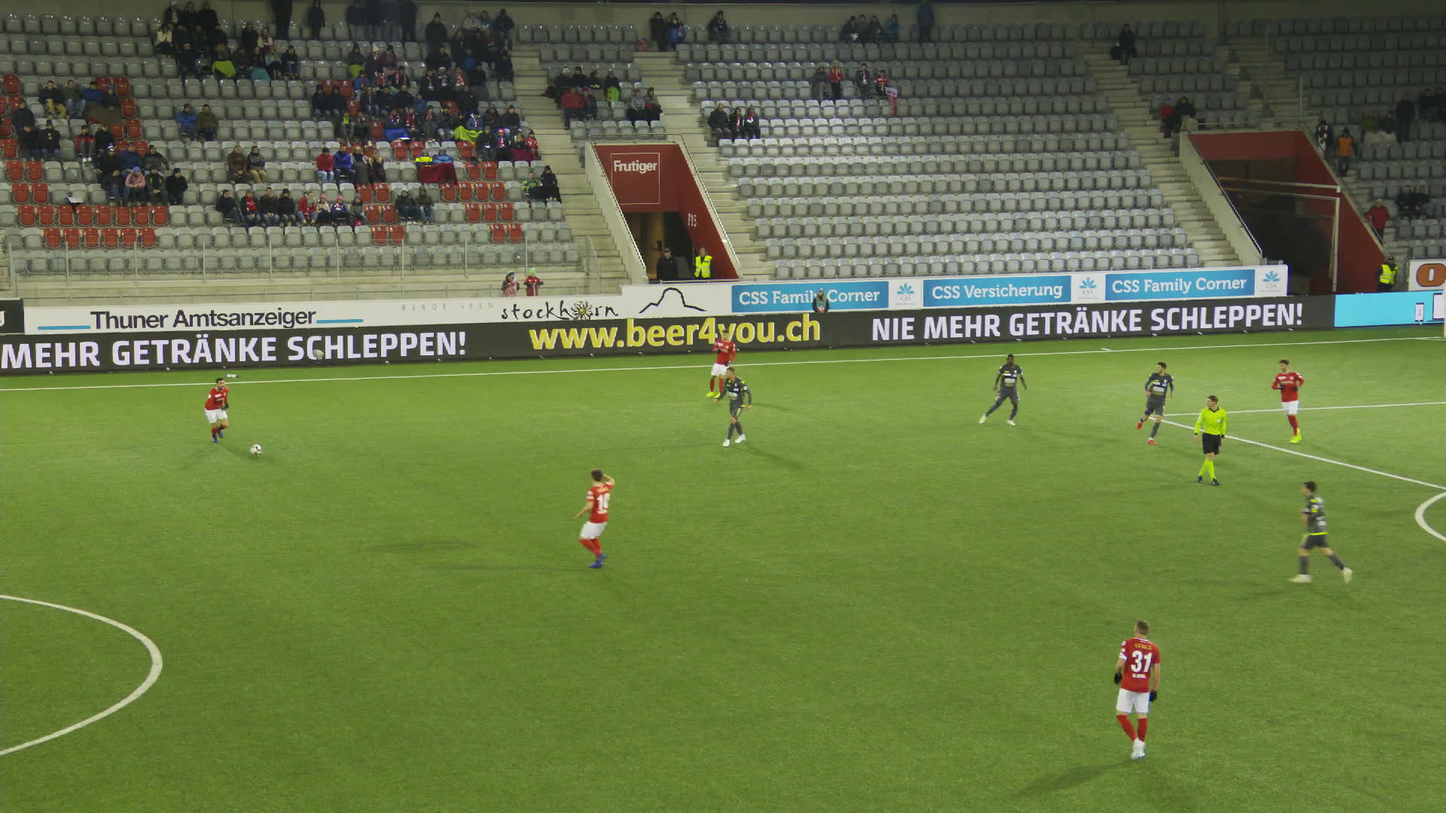ball: (248, 445, 261, 456)
player: (1110, 621, 1163, 761), (1305, 485, 1354, 587), (575, 465, 621, 567), (981, 353, 1029, 424), (1139, 361, 1174, 443), (719, 367, 754, 446), (1275, 362, 1308, 443), (707, 330, 738, 397), (202, 376, 230, 442)
referee: (1194, 395, 1228, 487)
